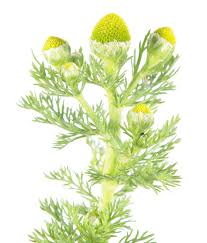pineple: (35, 13, 198, 185)
